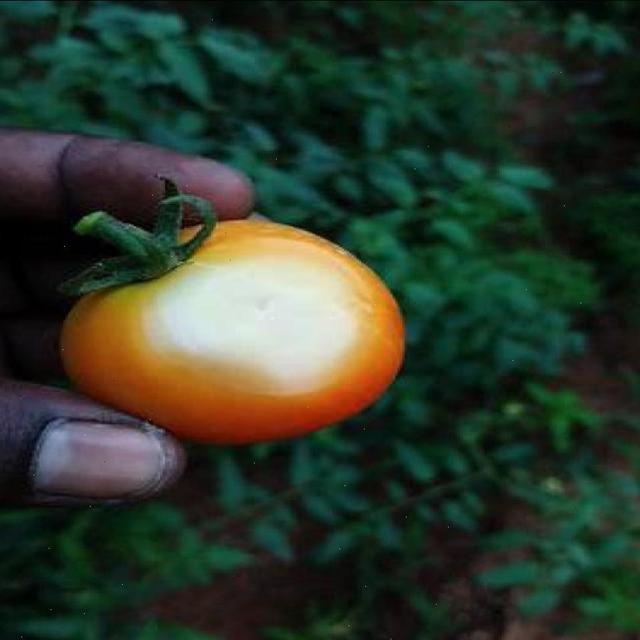Sunscald Fruit: (84, 160, 252, 262)
